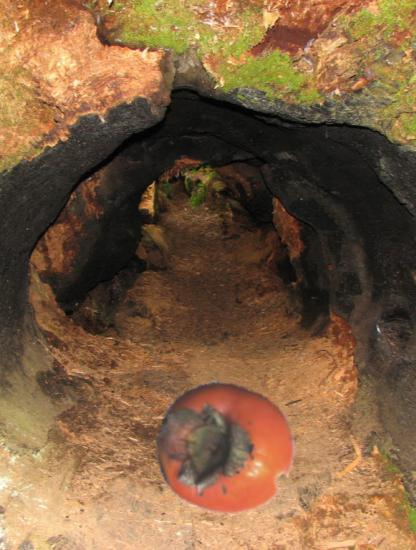Kaki: (154, 377, 298, 521)
